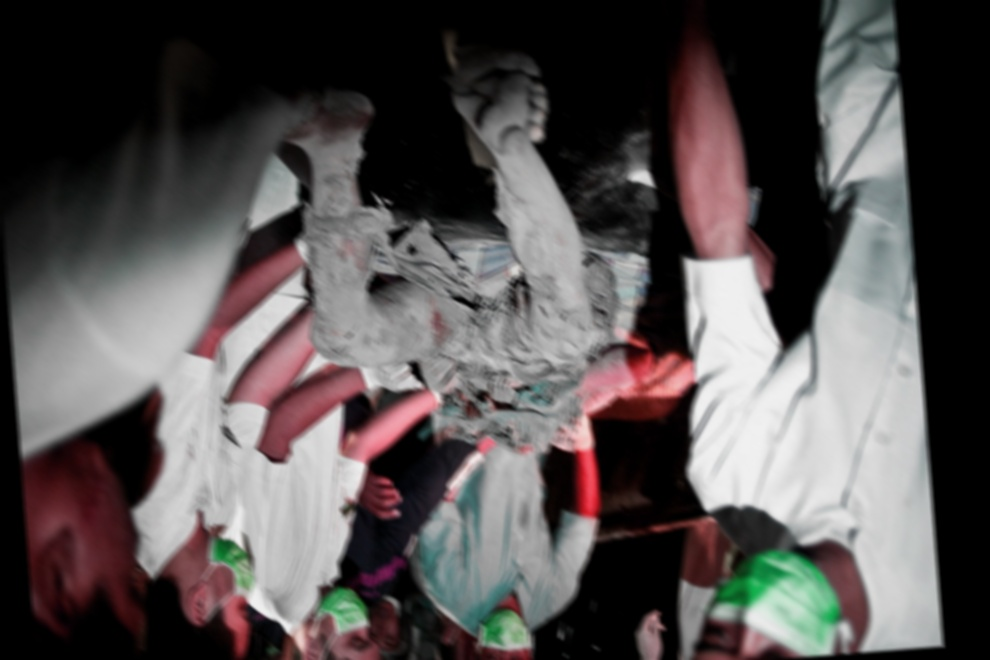BukanKorban: (0, 2, 354, 660), (638, 0, 943, 660), (201, 261, 465, 660), (111, 232, 340, 660), (409, 413, 612, 660), (358, 586, 417, 660)
Korban: (275, 56, 659, 471)
